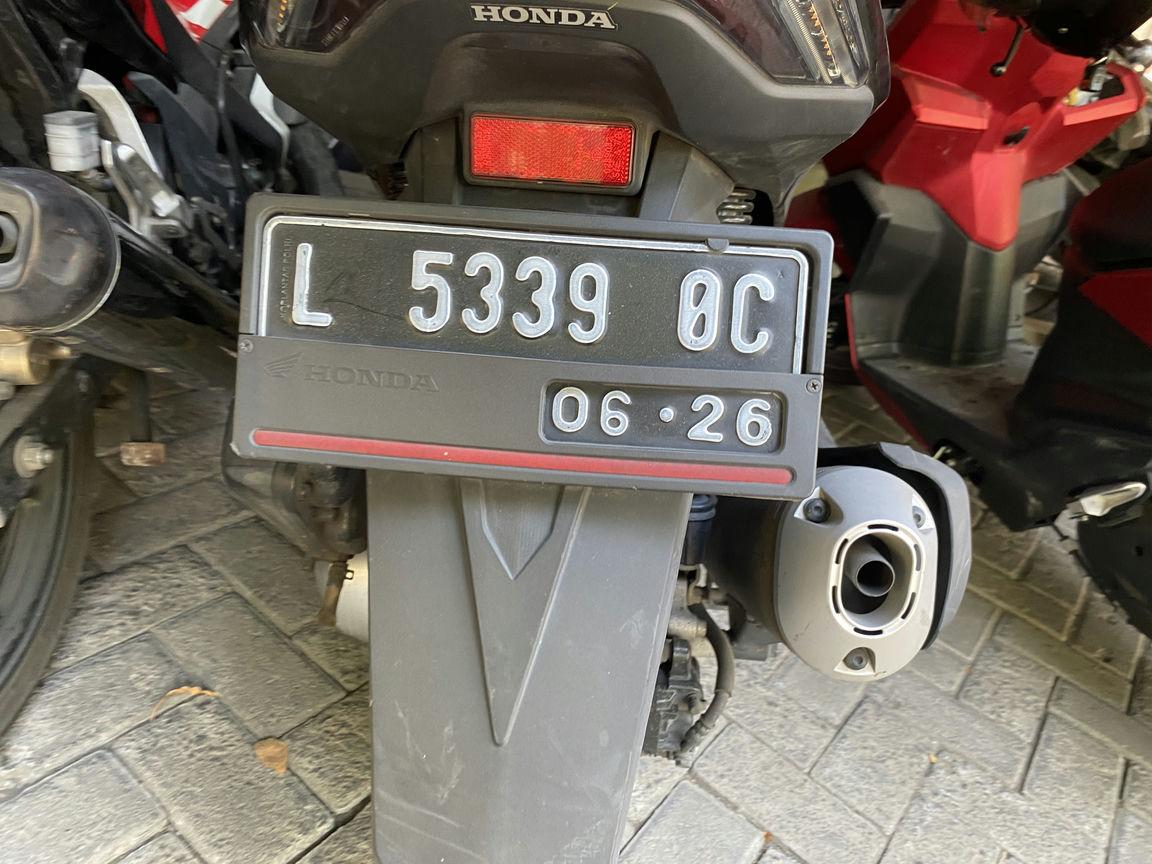plat: (234, 196, 828, 500)
